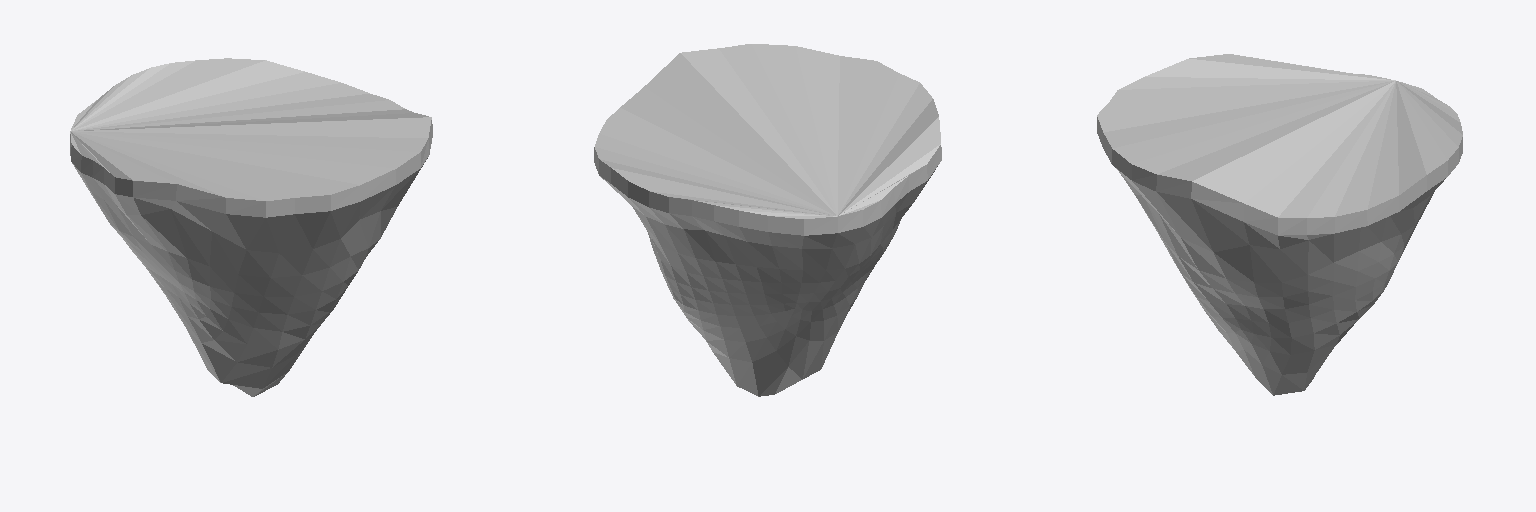
File: terrain_Cube.obj
3 renders of one model, left to right at view 1: azimuth 30°, elevation 25°; view 2: azimuth 150°, elevation 25°; view 3: azimuth 270°, elevation 25°, orthographic.
Parts seen in each view (by area): view 1: Cube; view 2: Cube; view 3: Cube.
Part boxes in pixels (x1,y1,x2,y2): Cube: (70, 58, 432, 396); Cube: (594, 44, 941, 396); Cube: (1097, 54, 1462, 395).
Bounding box in the file's own units: 11.05 × 9.74 × 11.65.